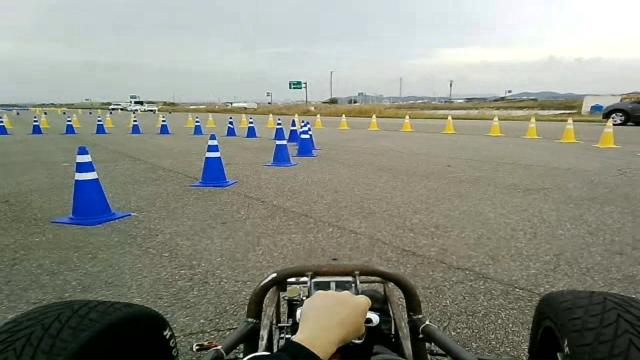blue cone: (50, 145, 132, 226), (189, 134, 238, 188), (262, 118, 299, 167), (301, 122, 320, 157), (286, 118, 300, 144)
yellow cone: (592, 118, 620, 148), (556, 117, 582, 143), (520, 115, 542, 139), (484, 114, 505, 136), (440, 114, 458, 134), (399, 114, 414, 131), (367, 113, 381, 130), (336, 113, 350, 129)
